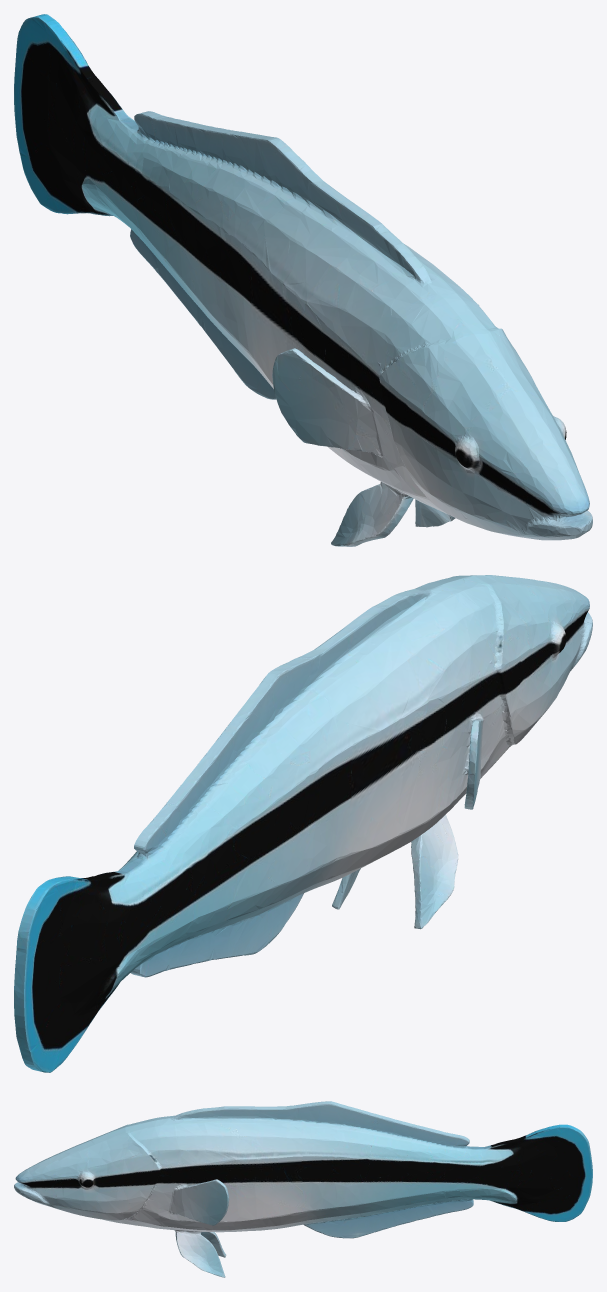
The model's file is meshy-wrasse.glb.
The picture shows the model from 3 angles, top to bottom: view 1: azimuth 30°, elevation 25°; view 2: azimuth 150°, elevation 25°; view 3: azimuth 270°, elevation 25°; orthographic projection. The views are drawn at different scales.
Visible parts, largest first — view 1: mesh_node; view 2: mesh_node; view 3: mesh_node.
Part boxes in pixels (x1,y1,x2,y2): mesh_node: [14, 14, 592, 546]; mesh_node: [14, 575, 592, 1072]; mesh_node: [14, 1101, 592, 1277].
Size of the model in its own units: 0.3964 by 0.5956 by 1.9.
Materials: 1 (1 with a texture image).
